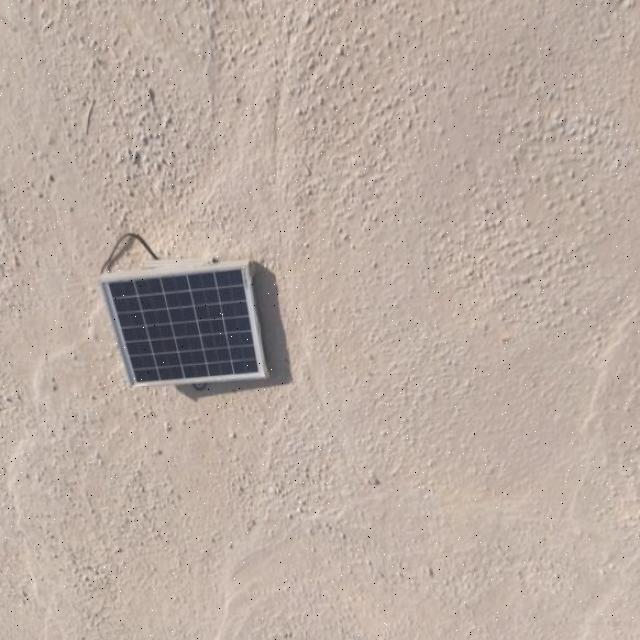Normal Solar Panel: (101, 265, 265, 387)
